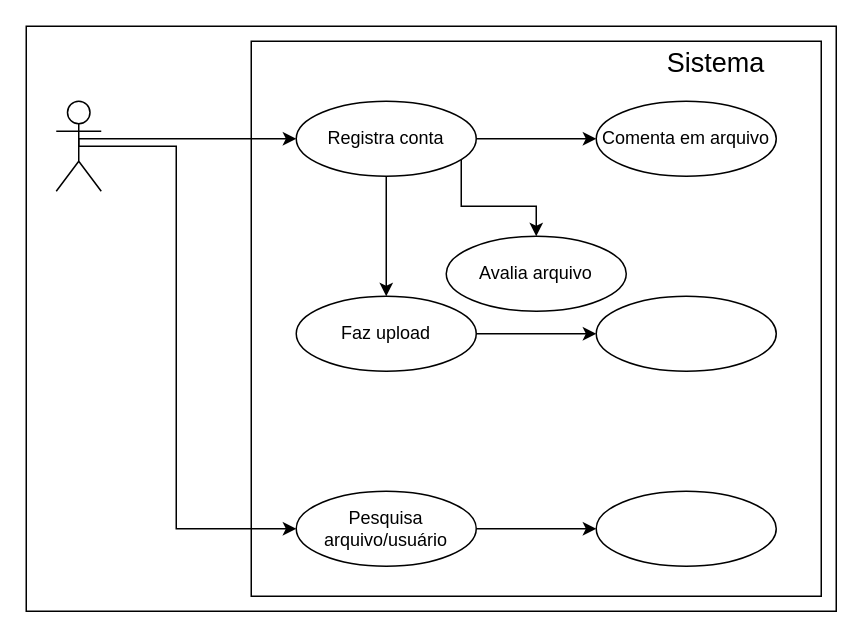
Some shapes in this 863 by 638 pixel diagram are drawn without their labels. The centre of each missing label's shape, as x and y in pixels:
Atualiza Arquivo: pixel 685 333
Faz download: pixel 685 528
Usuário: pixel 78 145
